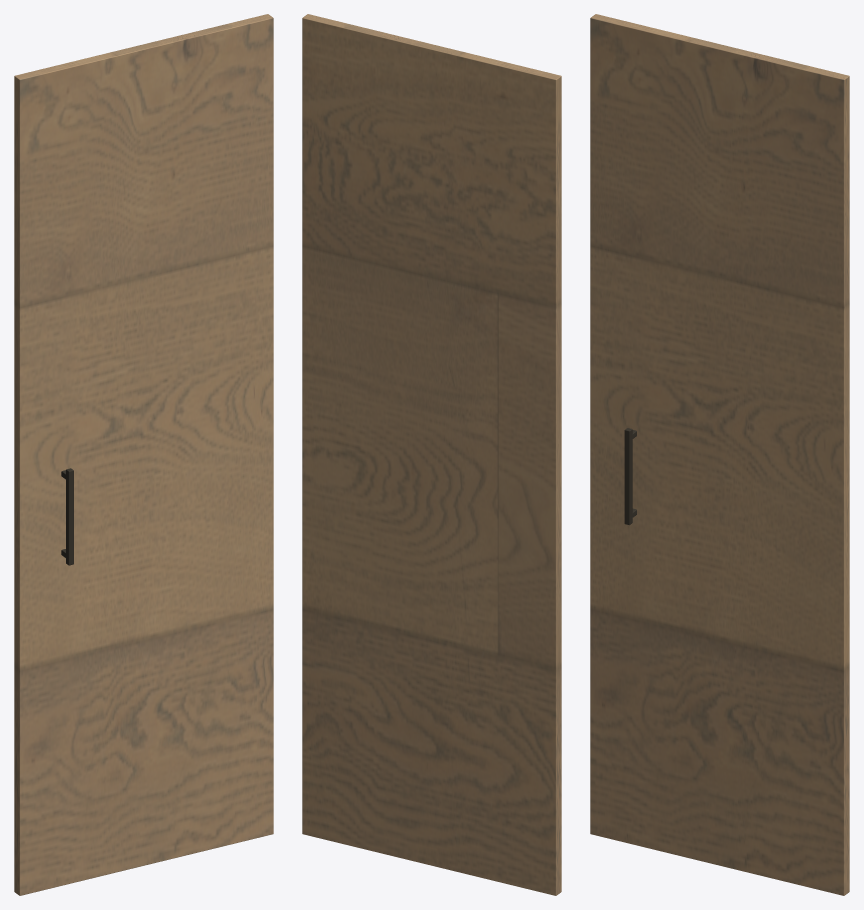
File: entry_right_door.glb
3 renders of one model, left to right at view 1: azimuth 30°, elevation 25°; view 2: azimuth 150°, elevation 25°; view 3: azimuth 330°, elevation 25°, orthographic.
Parts seen in each view (by area): view 1: entry_right_door_panel, entry_right_door_pull; view 2: entry_right_door_panel; view 3: entry_right_door_panel, entry_right_door_pull.
Boxes of the visible parts, box(x1,y1,x2,y2) form: entry_right_door_panel: box(14, 14, 273, 895); entry_right_door_pull: box(66, 468, 73, 565); entry_right_door_panel: box(302, 14, 561, 895); entry_right_door_panel: box(590, 14, 849, 895); entry_right_door_pull: box(624, 428, 632, 525).
Size of the model in its own units: 0.676 by 2.08 by 0.06.
Materials: 2 (1 with a texture image).
